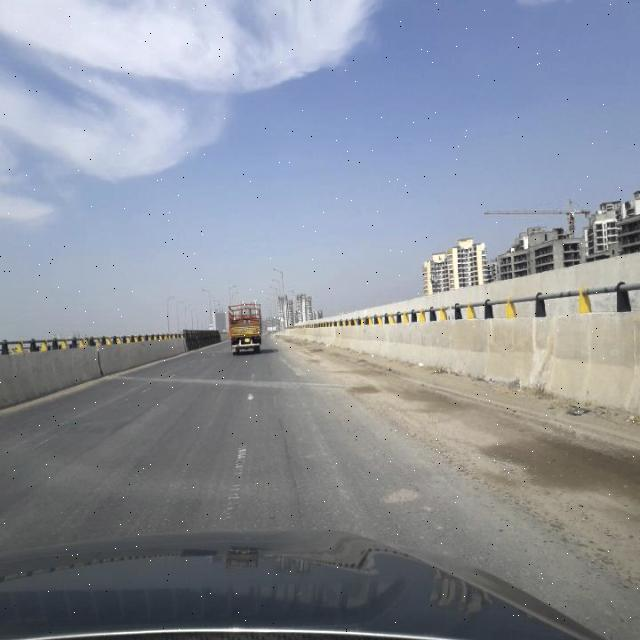D44: (212, 426, 258, 530)
